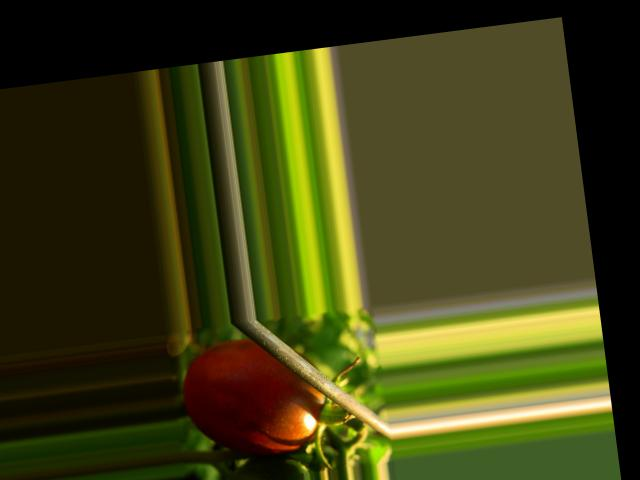tomato: (178, 331, 331, 463)
